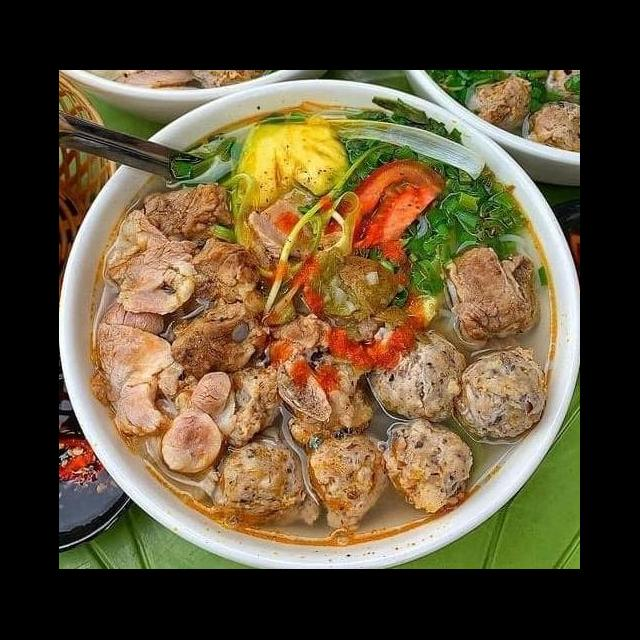bun moc: (79, 110, 579, 570)
thit heo: (91, 298, 188, 442), (98, 205, 202, 318), (437, 242, 542, 348), (157, 366, 240, 476)
vien moc: (444, 342, 556, 446), (364, 326, 476, 428), (210, 428, 314, 536), (380, 414, 482, 524), (304, 426, 394, 534), (220, 362, 294, 448), (468, 72, 538, 136), (516, 94, 580, 160)
